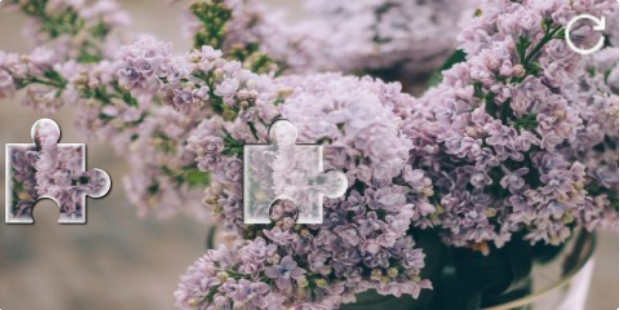target: (243, 121, 347, 224)
